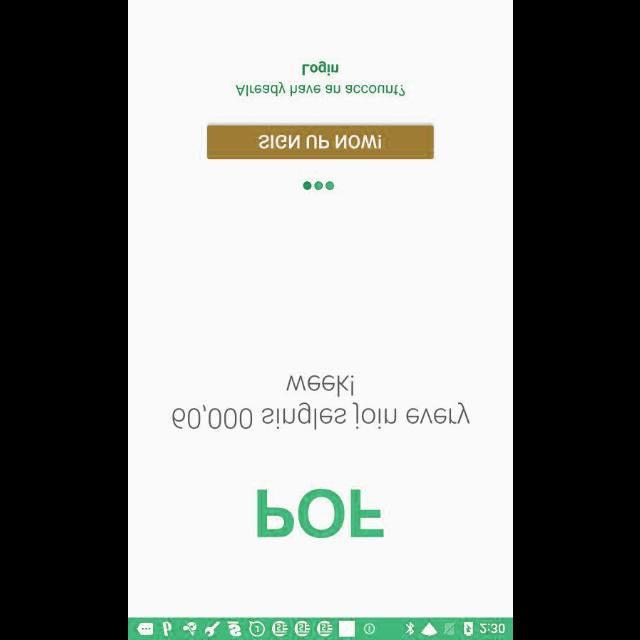pageindicator: (302, 182, 334, 190)
text: (171, 374, 469, 430), (256, 488, 384, 538), (236, 82, 404, 96), (302, 60, 338, 76)
textbutton: (207, 125, 433, 159)
uppertaskbar: (128, 617, 512, 639)
